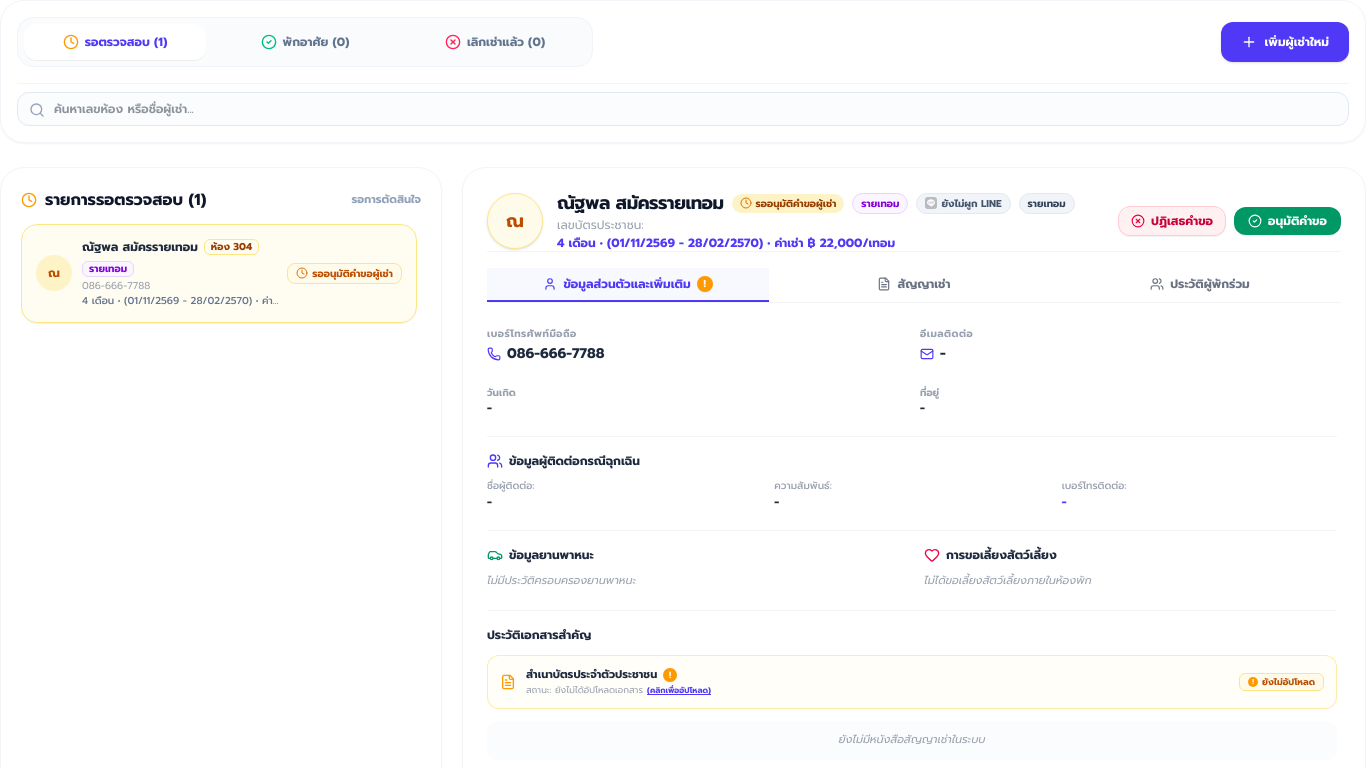
Scenario: Tenant Phase 3 Step 3C.5B: Thai-Only Labels, Contract Tab Rules & Approval Parity › 3. Pending Monthly & Term Provisional Lease Presentation › 3.2 Pending Term applicant shows Contract tab with Provisional Lease details
This screenshot has width=1366, height=768.
Click the button "สัญญาเช่า".
click(914, 284)  # box [773,268,1055,302]
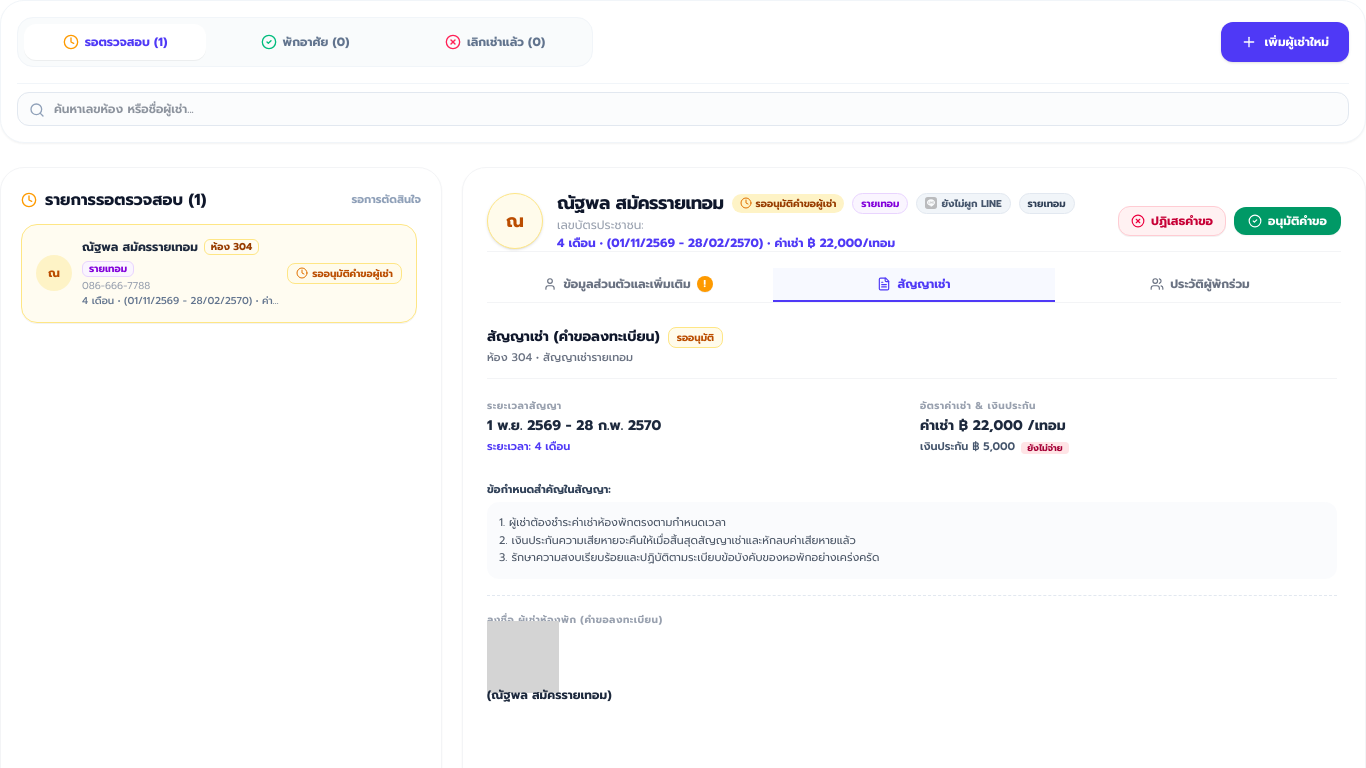
Expected: the text "สัญญาเช่า (คำขอลงทะเบียน)" is shown, [487,327,660,347]
Expected: the text "ห้อง 304 • สัญญาเช่ารายเทอม" is shown, [487,348,633,366]
Expected: the text "ค่าเช่า ฿ 22,000 /เทอม" is shown, [920,415,1066,436]
